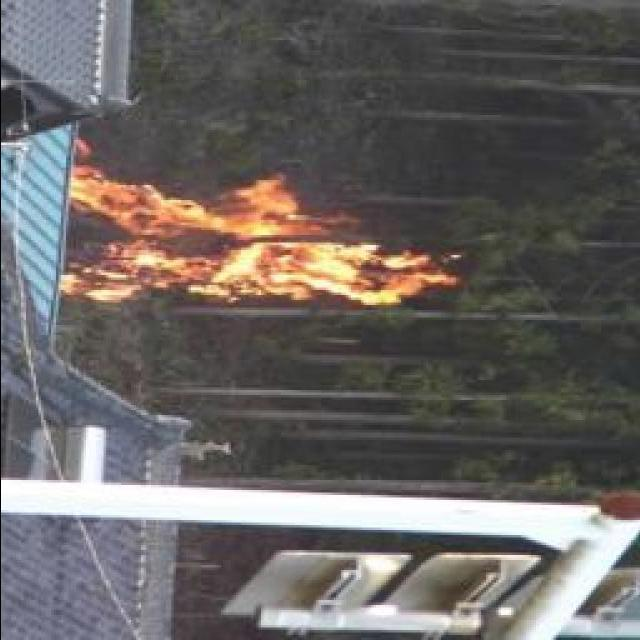Fire: (56, 185, 443, 319)
